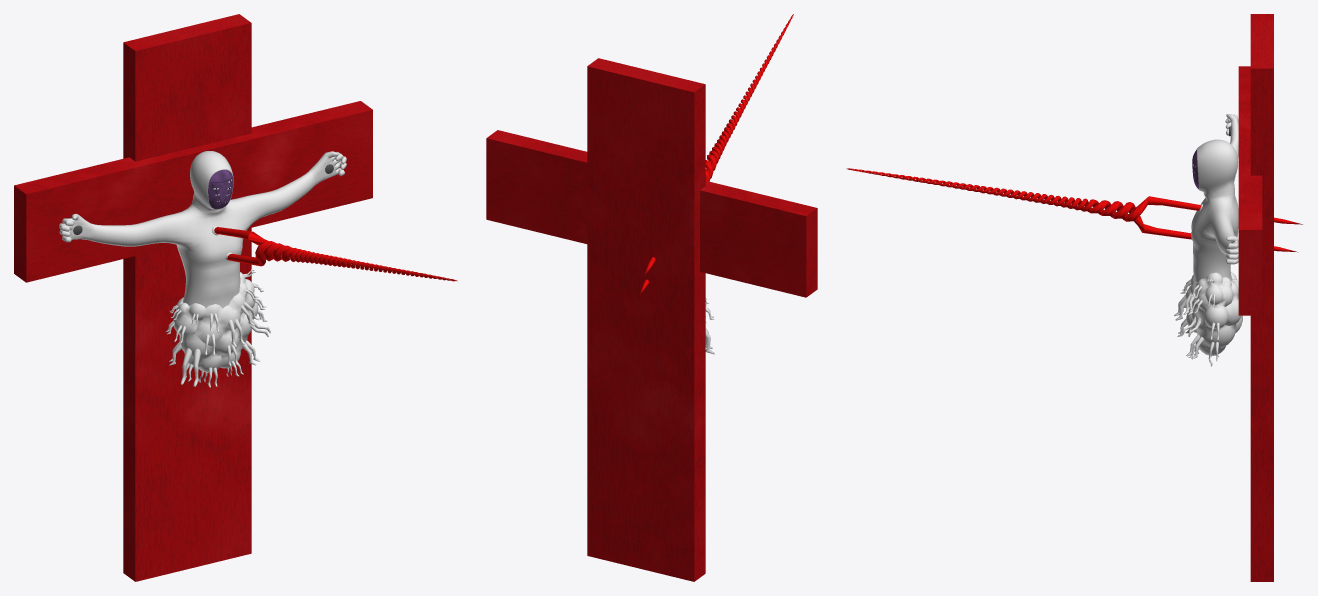
File: lilith unity.fbx
The picture shows the model from 3 angles, left to right: view 1: azimuth 30°, elevation 25°; view 2: azimuth 150°, elevation 25°; view 3: azimuth 270°, elevation 25°; orthographic projection. The views are drawn at different scales.
Parts seen in each view (by area): view 1: p_cross_vertical, p_cross_horizontal, p_face1, p_waist, p_legs, p_spear_longinus; view 2: p_cross_vertical, p_cross_horizontal, p_spear_longinus; view 3: p_cross_vertical, p_face1, p_cross_horizontal, p_spear_longinus, p_waist, p_legs.
Boxes of the visible parts, box(x1,y1,x2,y2) form: p_cross_vertical: box(123, 14, 251, 581); p_cross_horizontal: box(14, 101, 372, 282); p_face1: box(59, 151, 346, 308); p_waist: box(173, 272, 258, 372); p_legs: box(165, 269, 270, 387); p_spear_longinus: box(214, 227, 457, 281); p_cross_vertical: box(587, 58, 705, 581); p_cross_horizontal: box(486, 130, 817, 297); p_spear_longinus: box(639, 14, 793, 295); p_cross_vertical: box(1250, 14, 1273, 581); p_face1: box(1191, 114, 1238, 282); p_cross_horizontal: box(1238, 66, 1262, 315); p_spear_longinus: box(846, 168, 1302, 252); p_waist: box(1185, 271, 1242, 355); p_legs: box(1174, 279, 1219, 366).
Bounding box in the file's own units: 821 × 1201 × 970.
